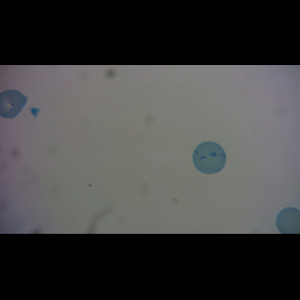aggregate reticulocyte: (192, 141, 227, 174)
erythrocyte: (1, 88, 29, 119)
